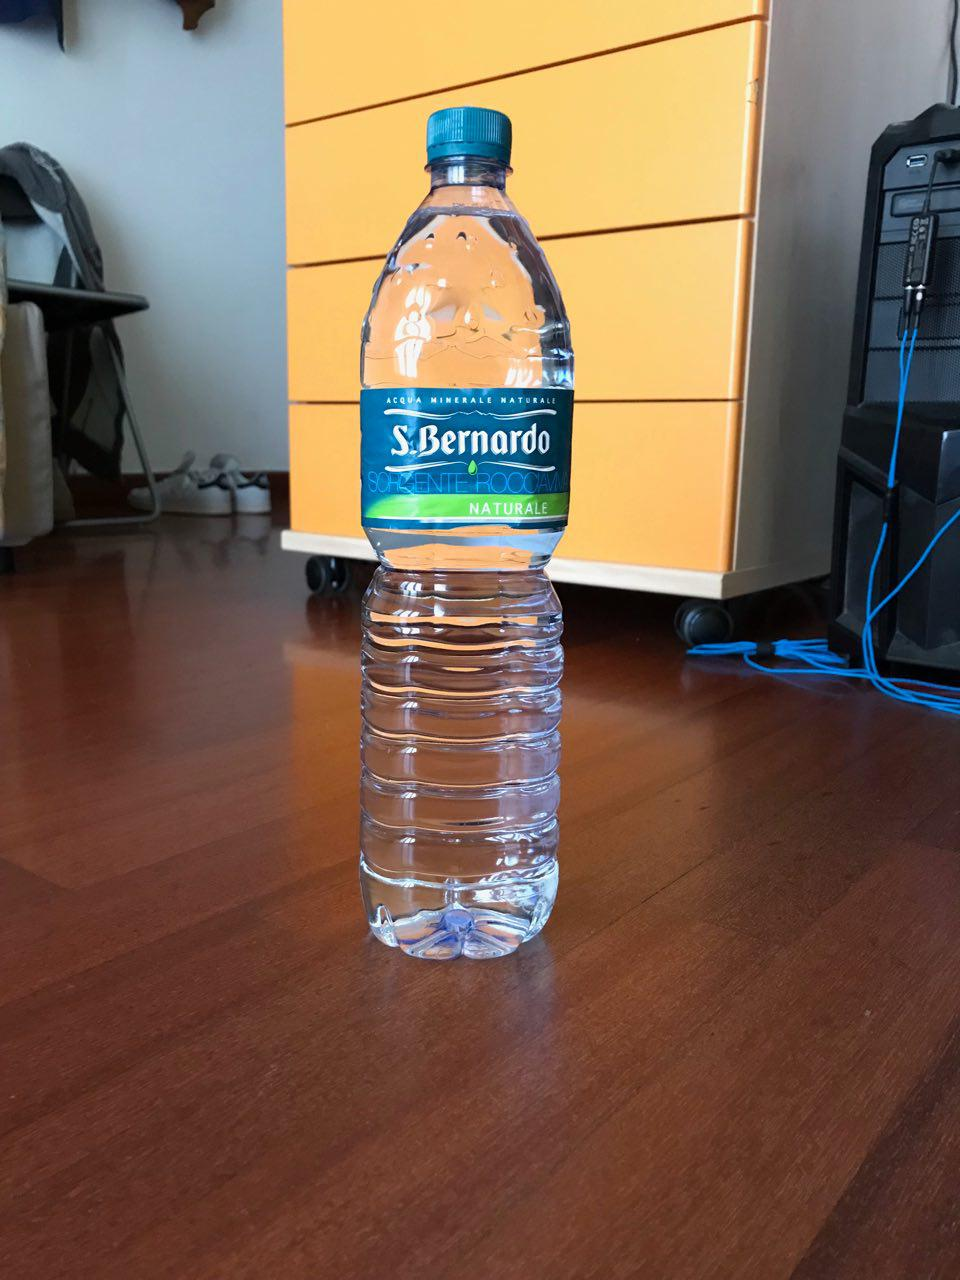san_bernardo: (358, 104, 577, 963)
